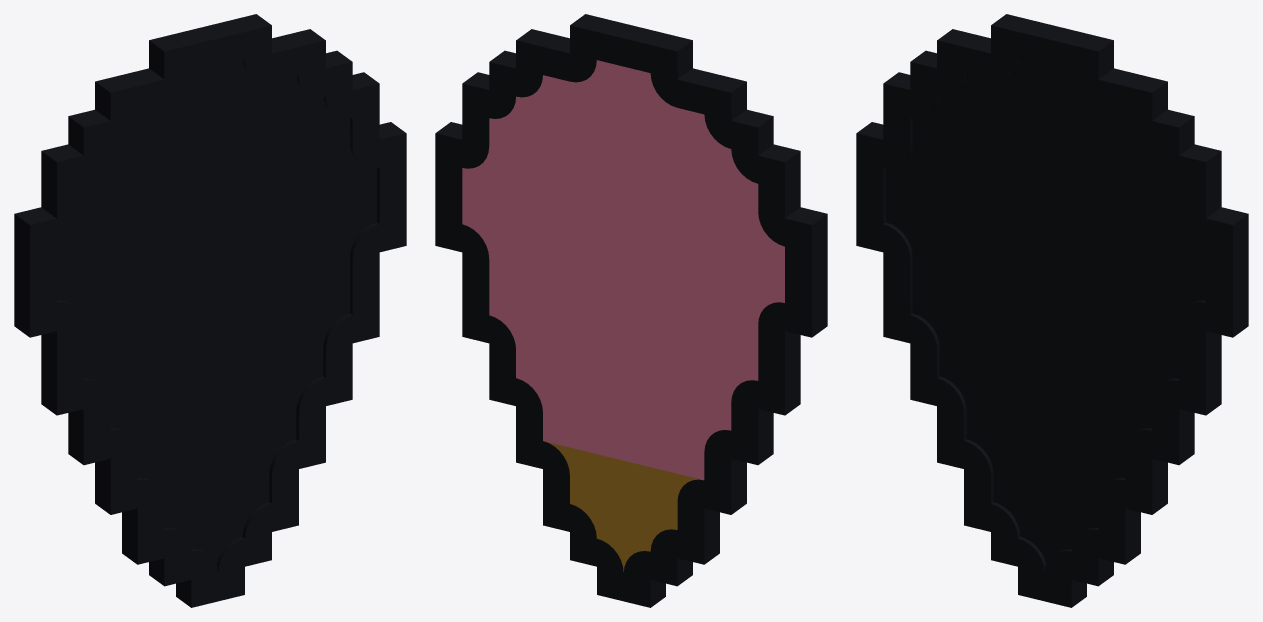
3 views of the same model, side by side, from view 1: azimuth 30°, elevation 25°; view 2: azimuth 150°, elevation 25°; view 3: azimuth 330°, elevation 25° (orthographic).
Parts seen in each view (by area): view 1: dark_border; view 2: interior.003, dark_border, interior, interior.001, interior.002; view 3: dark_border.
Part boxes in pixels (x1,y1,x2,y2): dark_border: (14, 14, 406, 607); interior.003: (462, 60, 783, 456); dark_border: (435, 14, 827, 607); interior: (462, 60, 784, 480); interior.001: (544, 441, 701, 571); interior.002: (569, 447, 677, 541); dark_border: (856, 14, 1248, 607).
Bounding box in the file's own units: 0.084 × 0.12 × 0.00601.
